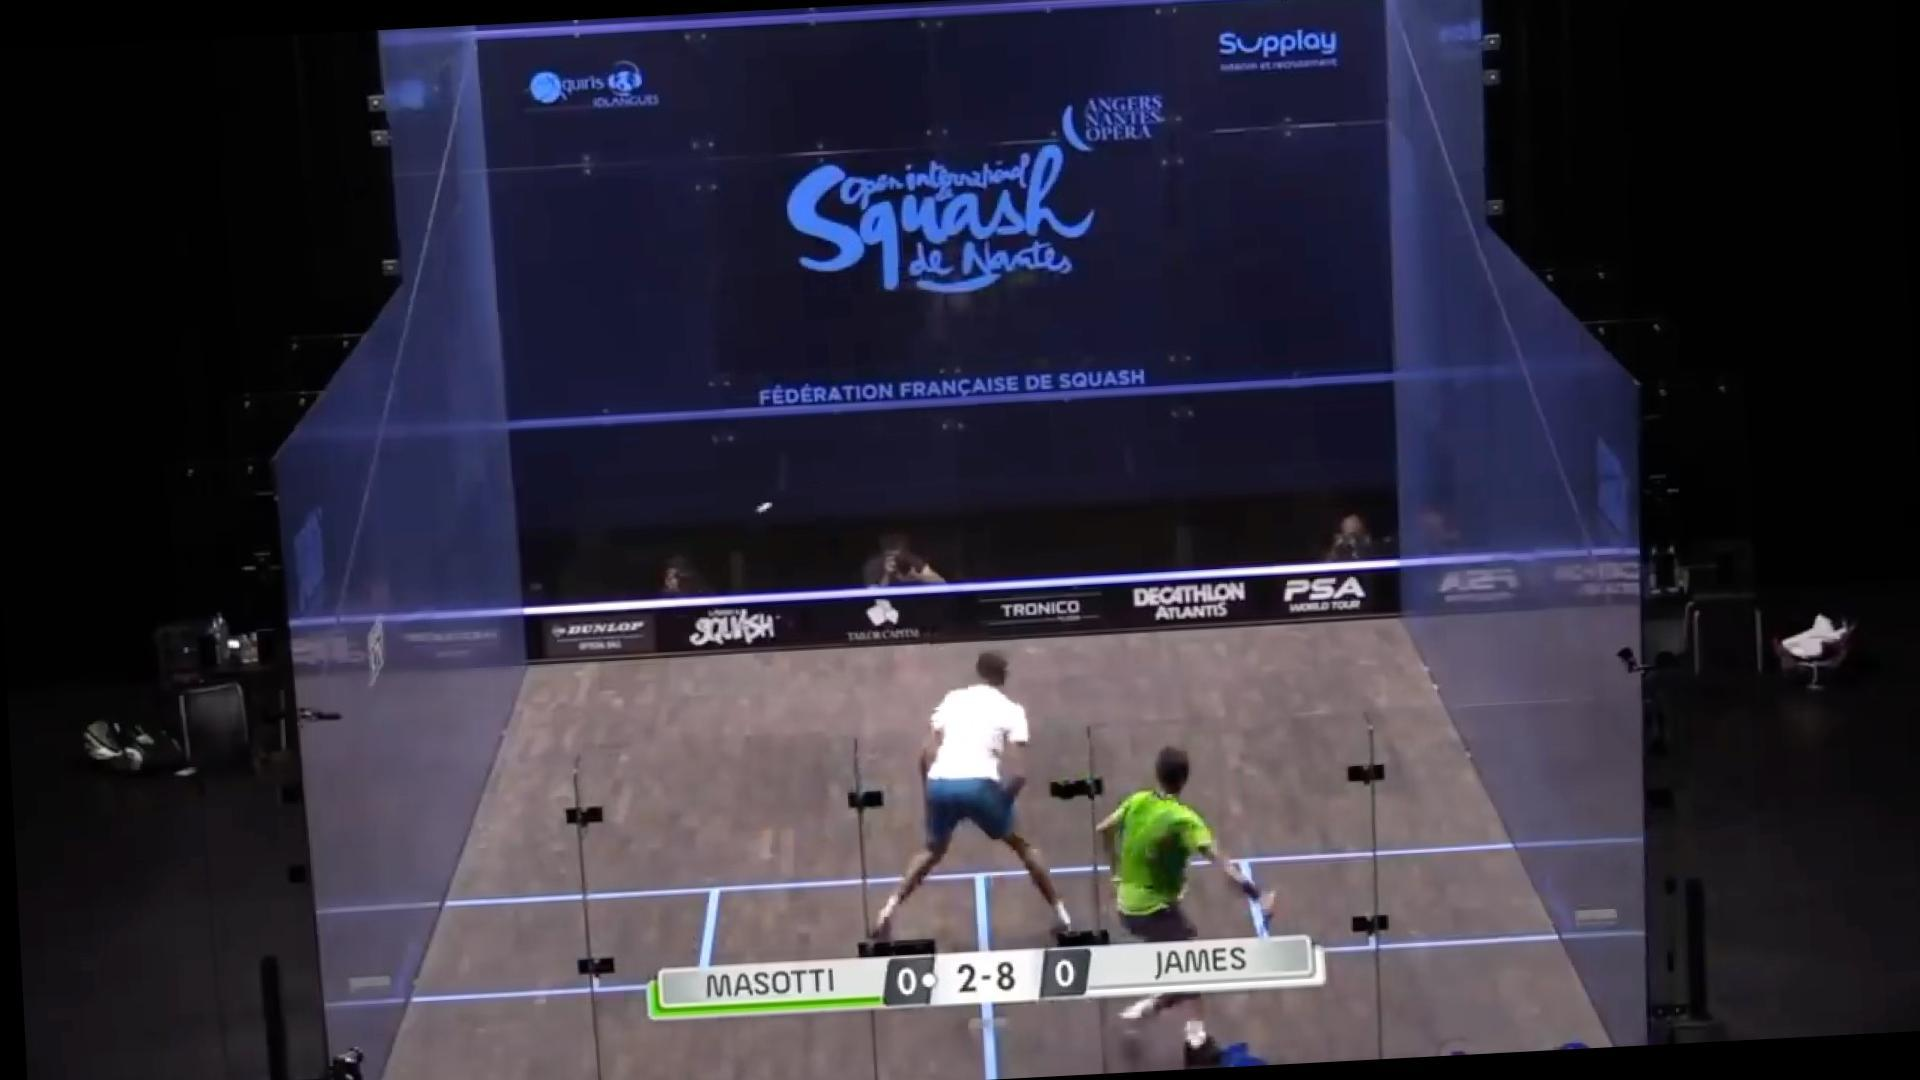Squash-Ball: (746, 487, 793, 534)
